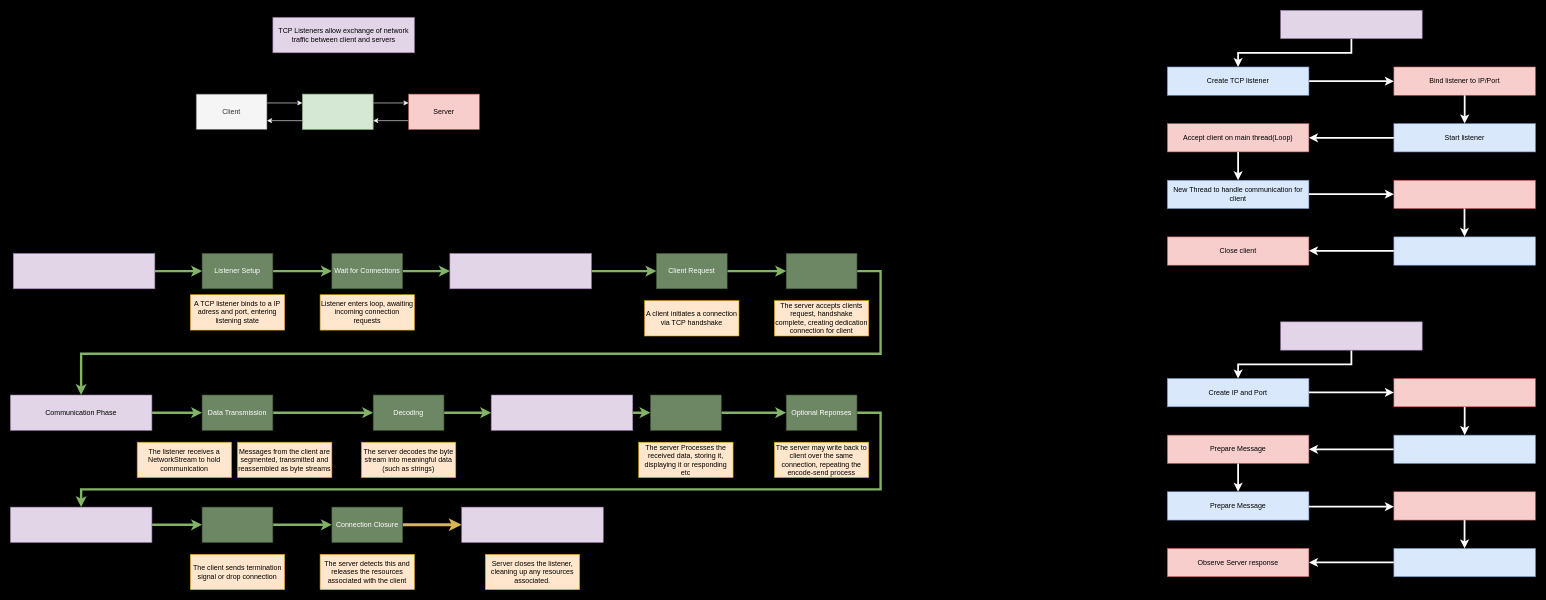
Image size: 1546x600. Some labels were removed from this diagram. The centre of each missing label's shape, as x and y in pixels:
(Testing)Write Clients text message to console(testing): the point at 1464,250
Assign IP and Port to new client inside try: the point at 1464,392
Client Disconnect: the point at 237,525
Connection Established: the point at 821,271
Connection Phase: the point at 520,271
Disconnection Phase: the point at 81,525
Encode Message: the point at 1464,505
Get network stream: the point at 1464,449
Handle Client Method to read data: the point at 1464,194
Initialization Phase: the point at 84,271
Message Handling: the point at 685,412
optional shutdown phase: the point at 532,525
Processing Phase: the point at 562,412
TCP Client Architecure: the point at 1351,335
TCP Listener: the point at 337,112
TCP Server Architecure: the point at 1351,24
Write message to stream: the point at 1464,562
